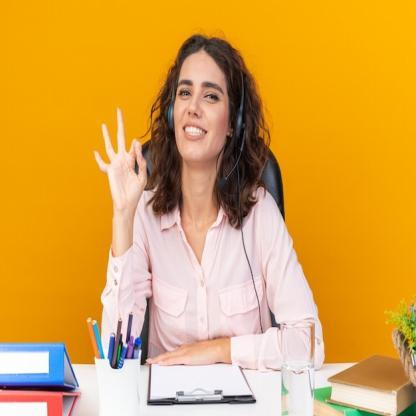ok: (91, 104, 148, 220)
